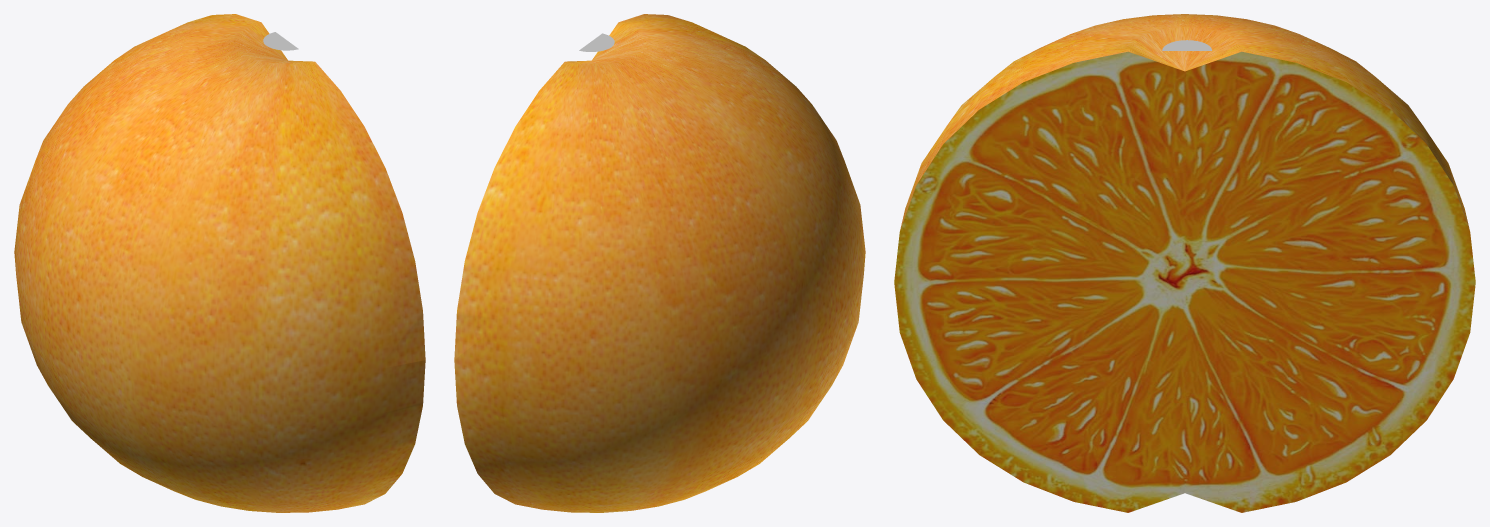
Rendered from orange_half1.obj.
The picture shows the model from 3 angles, left to right: view 1: azimuth 30°, elevation 25°; view 2: azimuth 150°, elevation 25°; view 3: azimuth 270°, elevation 25°; orthographic projection. The views are drawn at different scales.
Parts seen in each view (by area): view 1: Sphere01; view 2: Sphere01; view 3: Sphere01.
Part boxes in pixels (bbox=[...]): Sphere01: bbox=[14, 14, 425, 512]; Sphere01: bbox=[454, 14, 865, 512]; Sphere01: bbox=[894, 14, 1475, 512].
Size of the model in its own units: 30 by 52.59 by 60.
